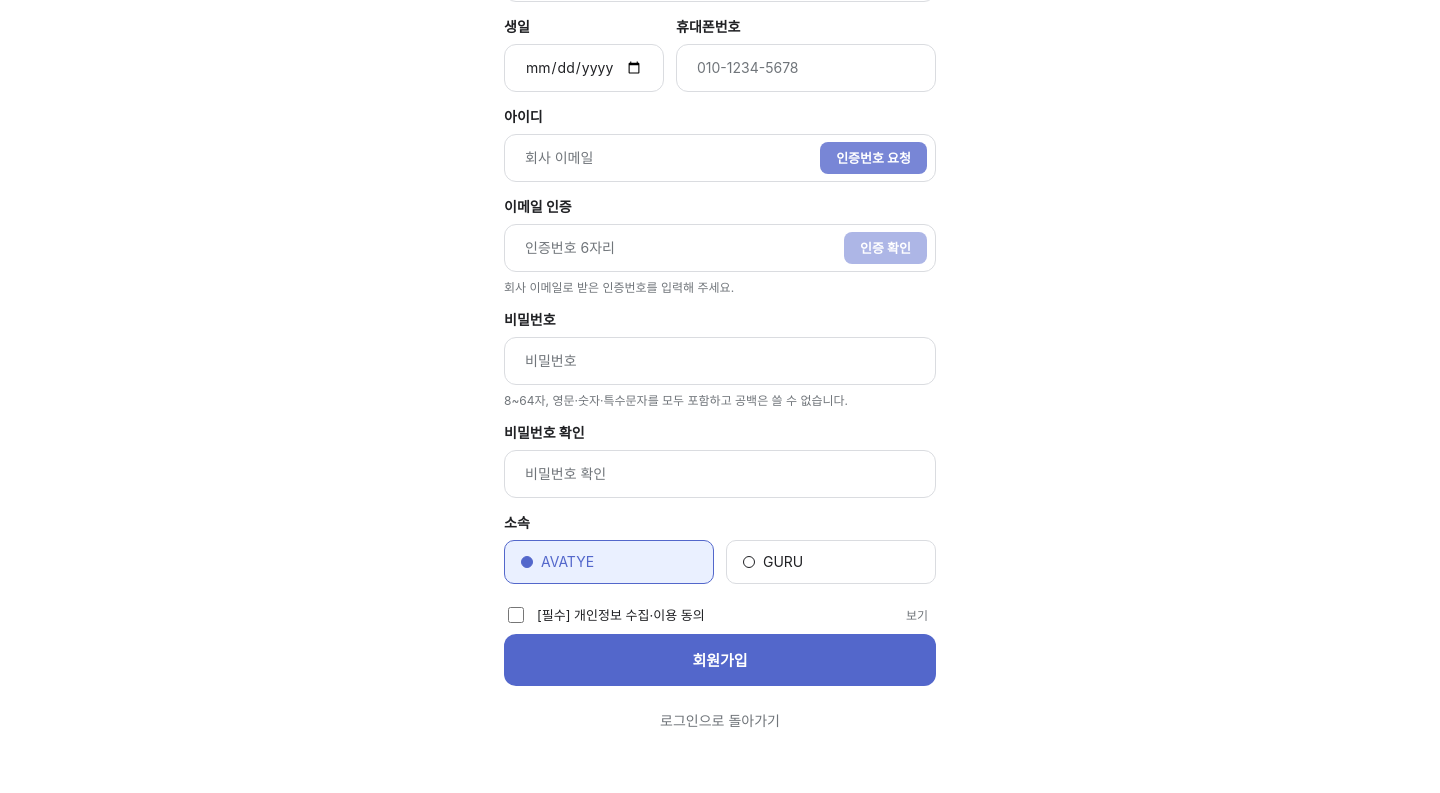
it: SignupPage › 개인정보 동의 '보기'를 누르면 수집 항목 안내가 열린다
The image size is (1440, 793).
(page scrolled)
Step 1. Click the button "보기" → (918, 615), box [900,605,936,624]
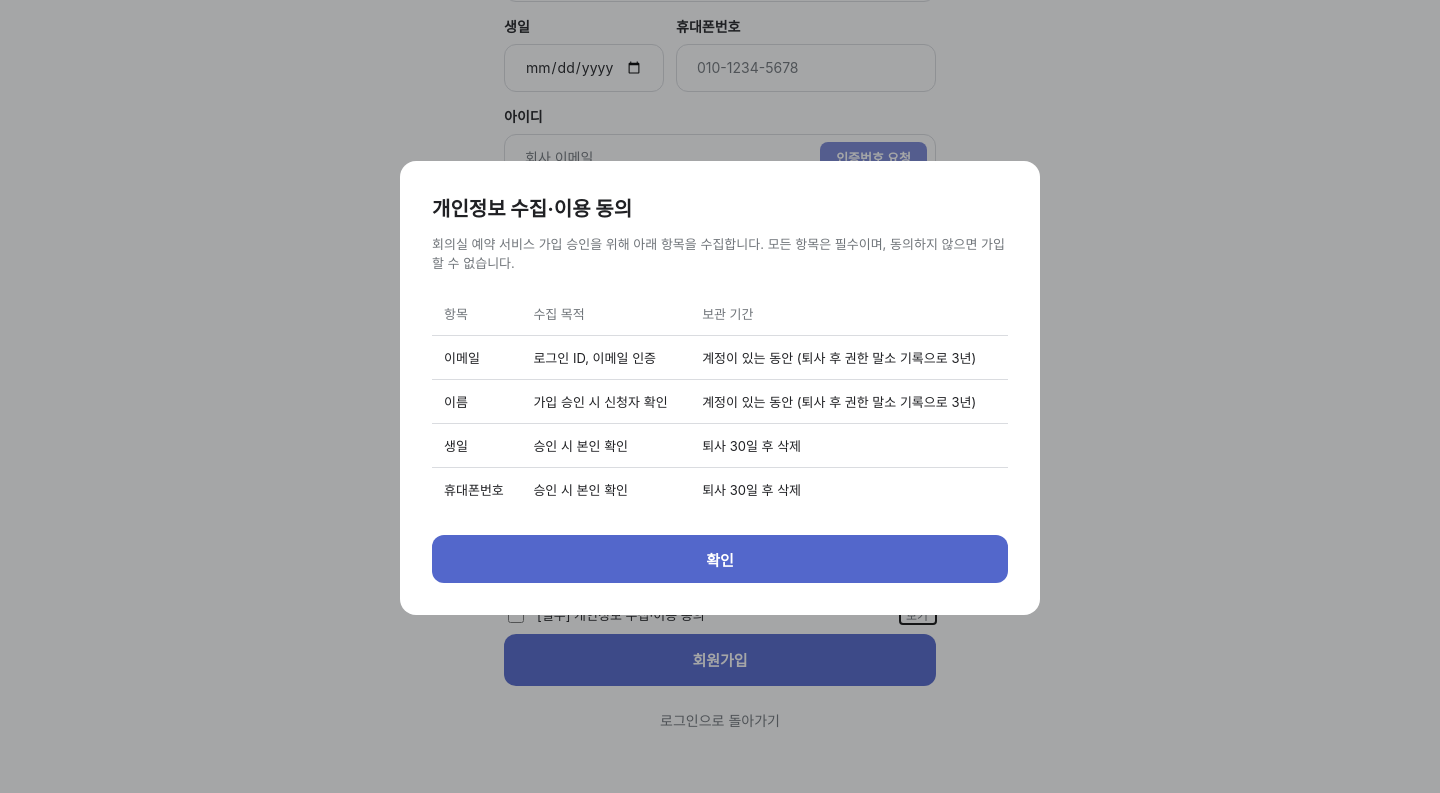
Expected: the dialog "개인정보 수집·이용 동의" is shown, [400,161,1040,615]
Step 2. Click the button "확인" → (720, 559), box [432,535,1008,583]
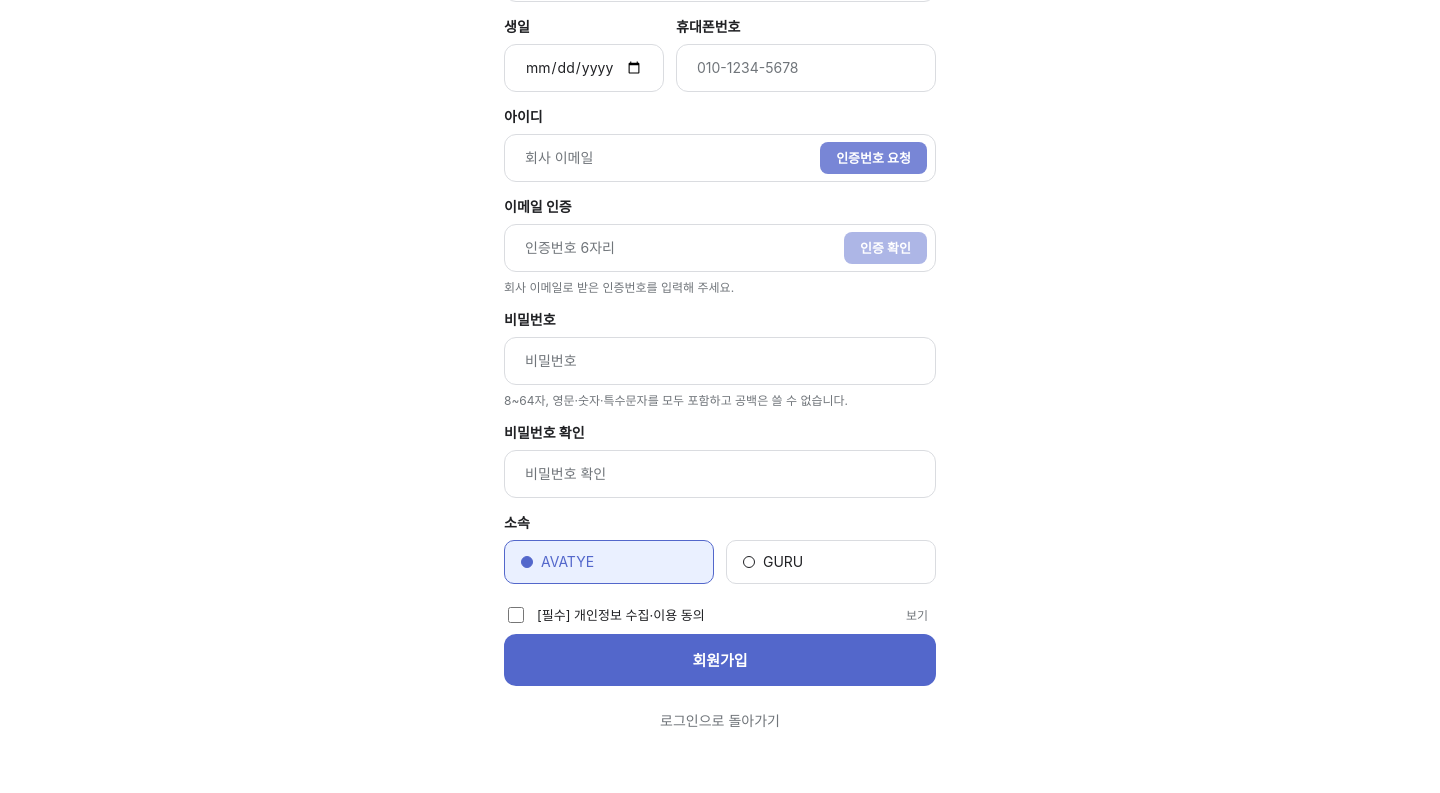
Expected: the dialog is gone
